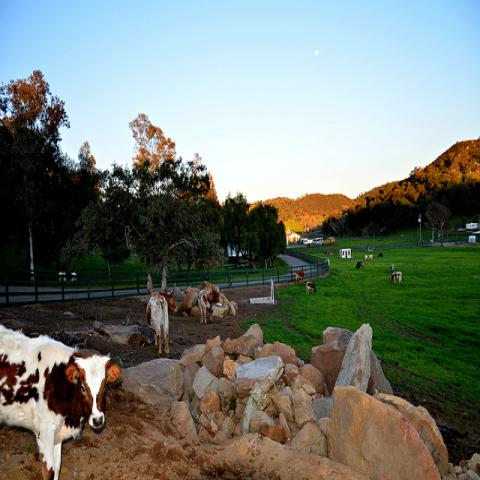car: (317, 241, 324, 246)
